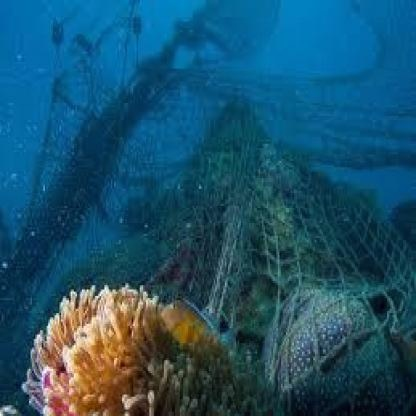net: (205, 126, 416, 403)
